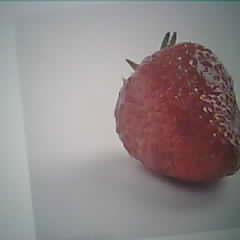straw-ripe: (113, 42, 240, 180)
